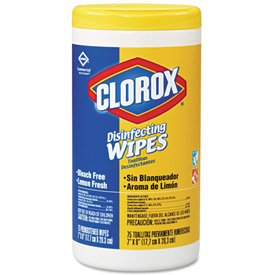Wipes: (68, 2, 204, 271)
